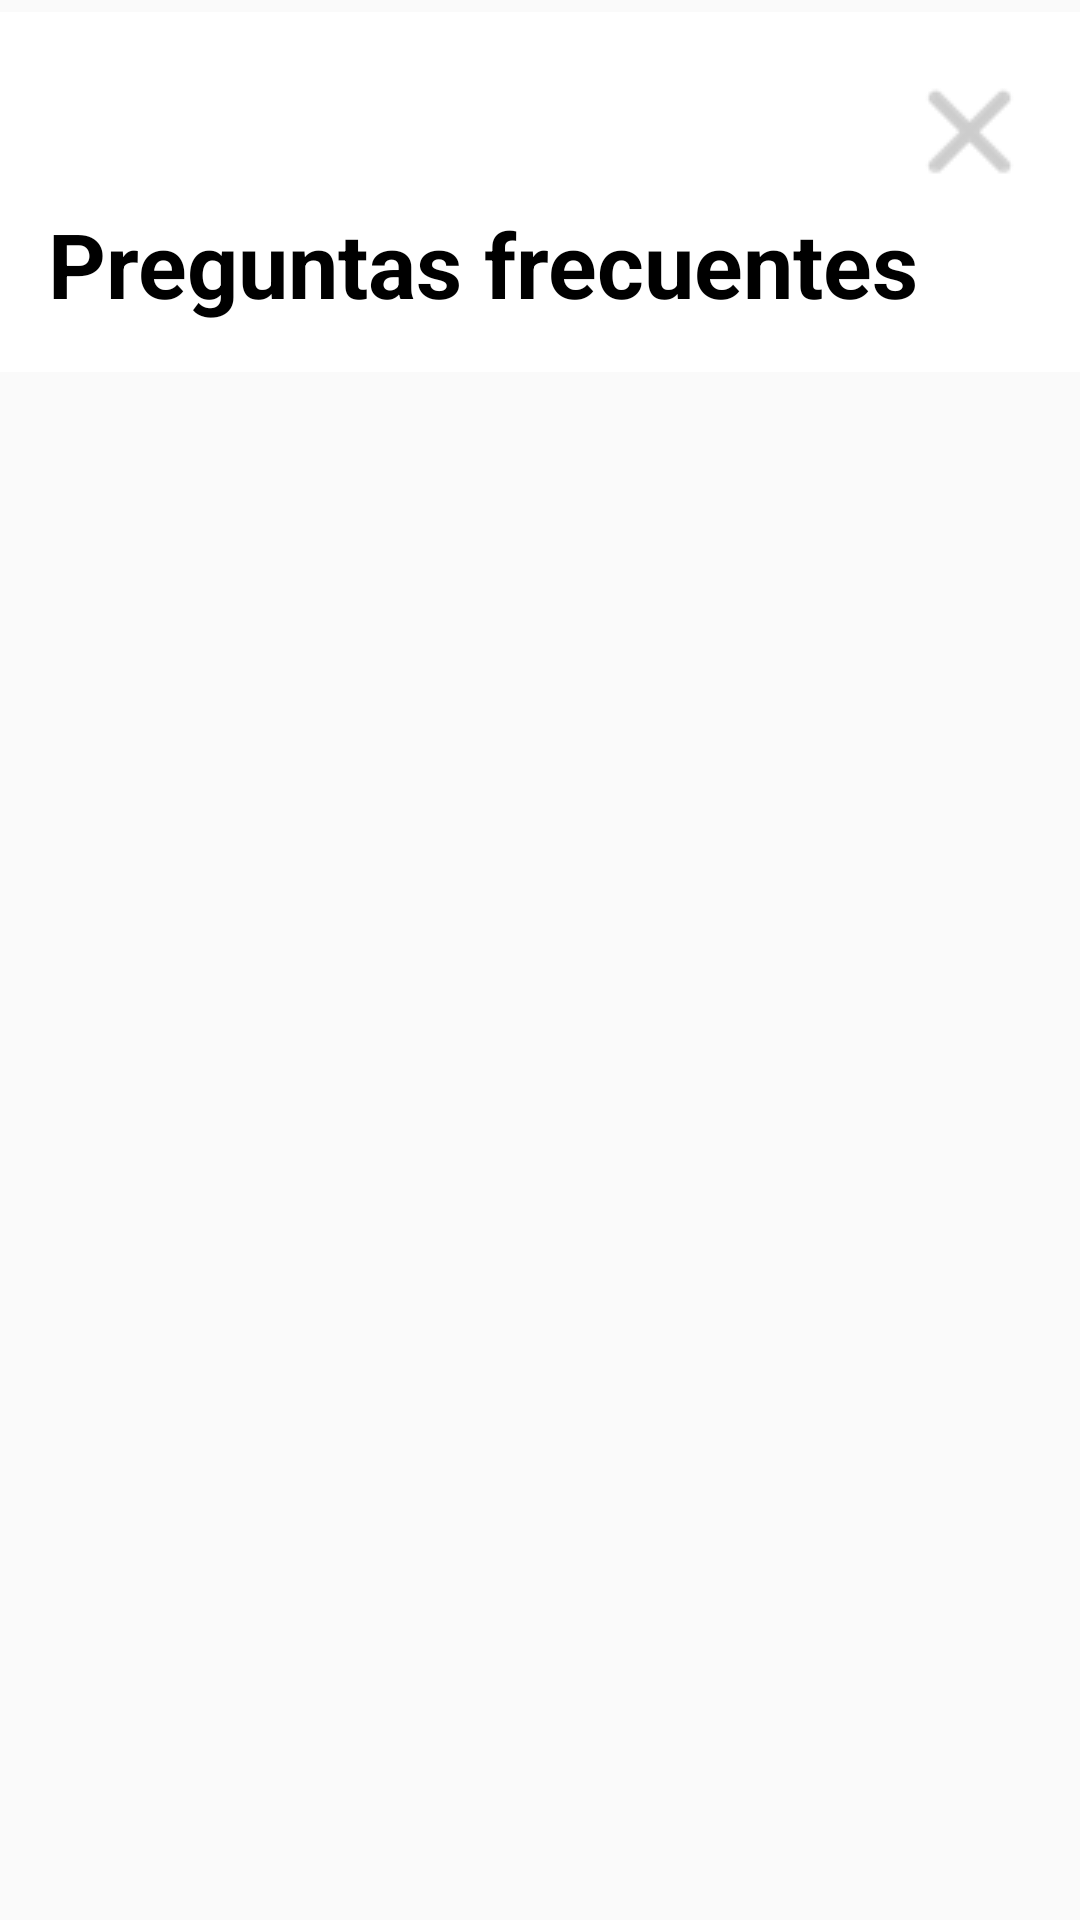

Where to tap for icons on this 1080x1920 app screen, as point (x, y):
salir: point (969, 131)
